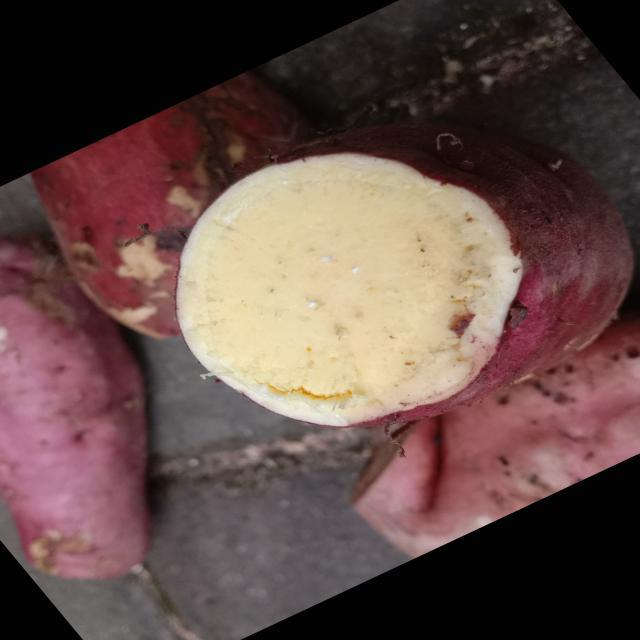Healthy Sweet Potato: (178, 154, 522, 425)
